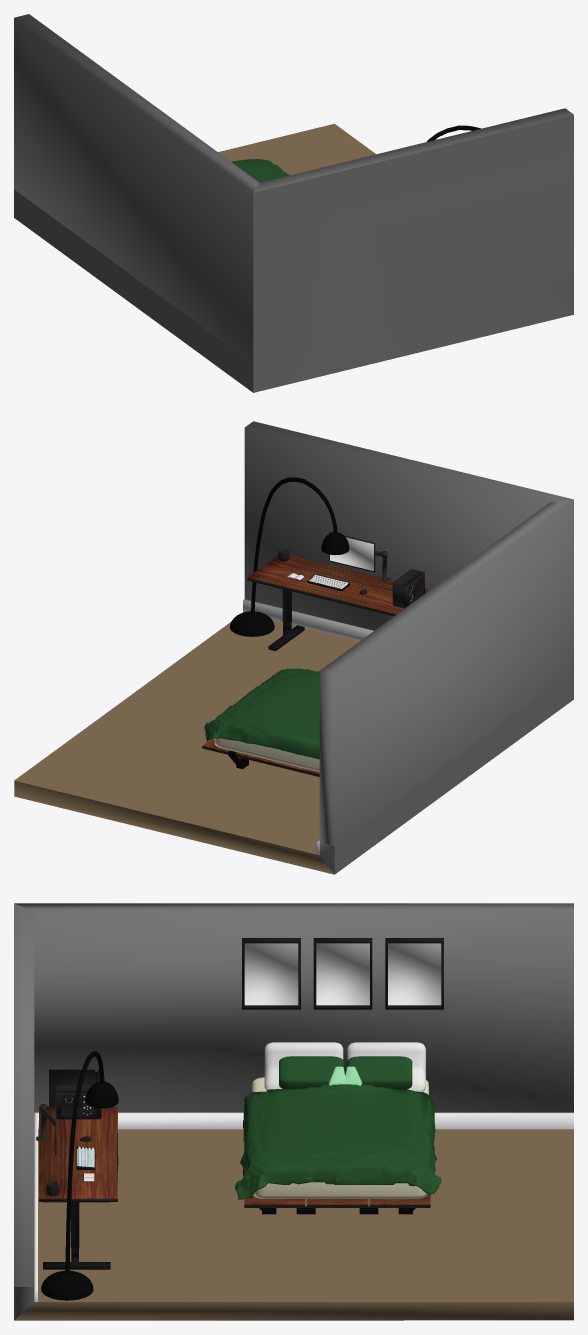
The model's file is room2.gltf.
3 renders of one model, top to bottom at view 1: azimuth 30°, elevation 25°; view 2: azimuth 150°, elevation 25°; view 3: azimuth 270°, elevation 25°, orthographic. The views are drawn at different scales.
Parts seen in each view (by area): view 1: room; view 2: room; view 3: room.
Boxes of the visible parts, x1=… form: room: x1=14, y1=14, x2=573, y2=392; room: x1=14, y1=421, x2=573, y2=874; room: x1=14, y1=903, x2=573, y2=1320.
Size of the model in its own units: 21.17 by 12.62 by 27.37.
28 materials, 2 textured.
